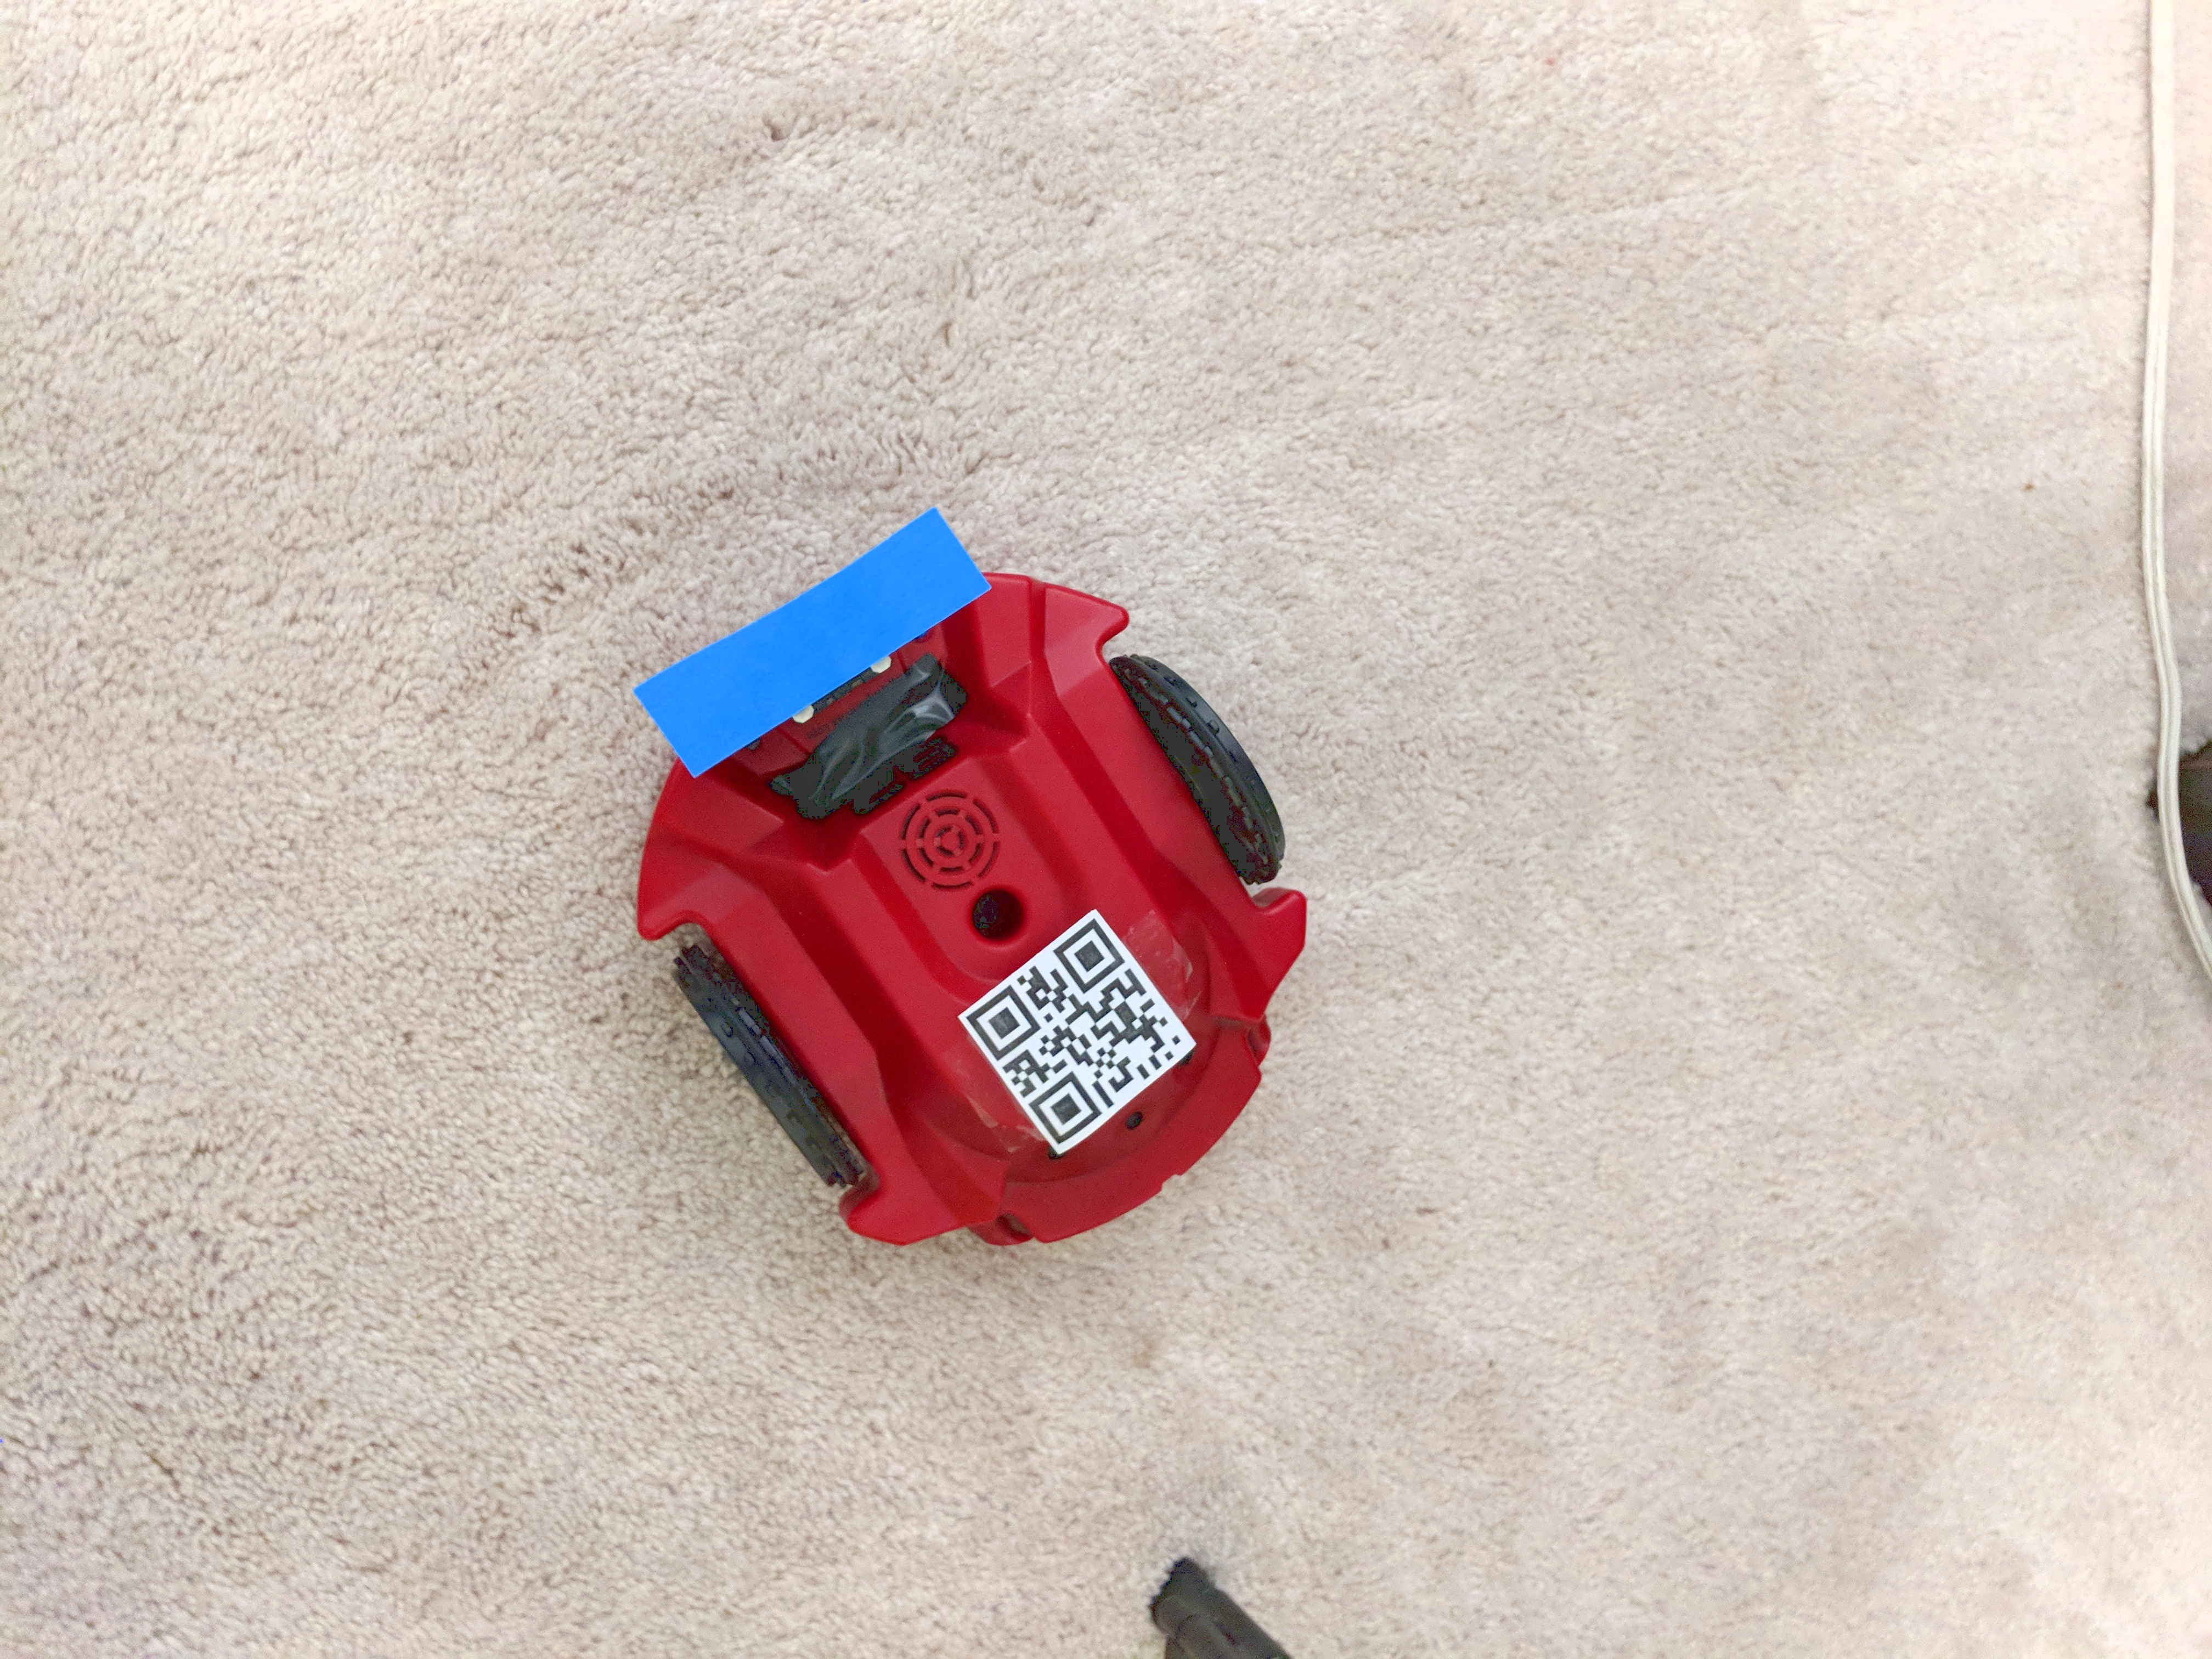board: (604, 495, 1019, 802)
chassis: (587, 491, 1317, 1305)
